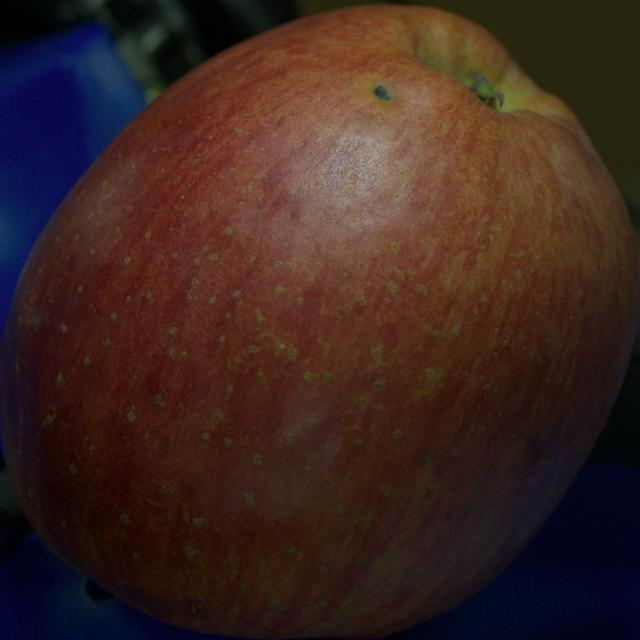apple: (0, 6, 639, 638)
pest: (374, 86, 391, 99)
